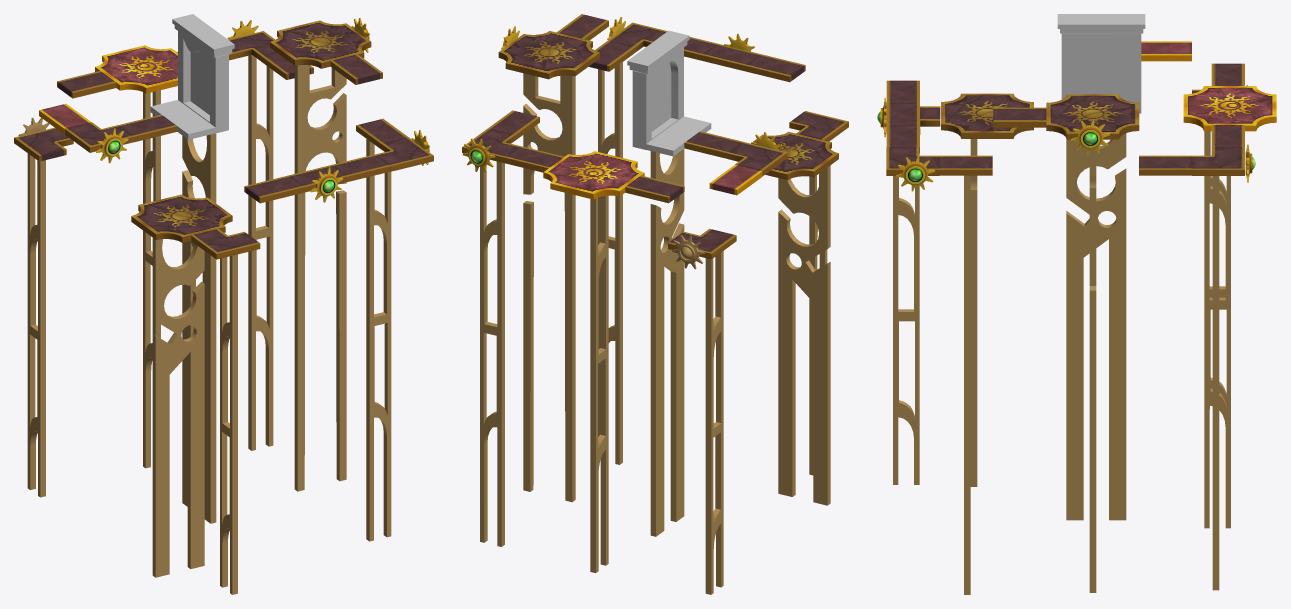
File: Level_2.fbx
3 renders of one model, left to right at view 1: azimuth 30°, elevation 25°; view 2: azimuth 150°, elevation 25°; view 3: azimuth 270°, elevation 25°, orthographic. The views are drawn at different scales.
Parts seen in each view (by area): view 1: Stand_03, Stand_01, Stand_02, pCube40, pCube39, pCube19, pCube30, pCube17, pCube31, pCube46, pCube25, pCube26 (+16 smaller); view 2: Stand_03, Stand_02, Stand_01, pCube31, pCube39, pCube19, pCube30, pCube40, pCube25, pCube26, pCube46, pCube17 (+17 smaller); view 3: Stand_02, pCube19, pCube31, pCube17, Stand_01, pCube26, pCube25, pCube39, pCube46, pCube40, Stand_03, pCube36 (+12 smaller).
Part boxes in pixels (<box>): Stand_03: <box>152,238,204,577</box>; Stand_01: <box>294,65,346,491</box>; Stand_02: <box>182,133,216,523</box>; pCube40: <box>366,138,391,541</box>; pCube39: <box>248,55,273,450</box>; pCube19: <box>150,14,234,139</box>; pCube30: <box>27,153,45,497</box>; pCube17: <box>220,254,237,594</box>; pCube31: <box>143,90,160,468</box>; pCube46: <box>131,194,232,242</box>; pCube25: <box>270,20,371,68</box>; pCube26: <box>95,45,177,93</box>; Stand_03: <box>778,165,830,505</box>; Stand_02: <box>650,149,684,536</box>; Stand_01: <box>523,73,575,502</box>; pCube31: <box>590,195,608,572</box>; pCube39: <box>480,161,504,546</box>; pCube19: <box>627,30,711,156</box>; pCube30: <box>705,251,723,594</box>; pCube40: <box>598,61,622,464</box>; pCube25: <box>498,31,599,79</box>; pCube26: <box>543,151,644,199</box>; pCube46: <box>752,132,838,180</box>; pCube17: <box>809,173,827,475</box>; Stand_02: <box>1066,133,1126,520</box>; pCube19: <box>1057,14,1145,113</box>; pCube31: <box>1204,131,1230,528</box>; pCube17: <box>893,153,919,484</box>; Stand_01: <box>1089,149,1096,592</box>; pCube26: <box>1183,86,1276,131</box>; pCube25: <box>1046,94,1139,139</box>; pCube39: <box>1212,176,1219,590</box>; pCube46: <box>941,93,1033,138</box>; pCube40: <box>964,175,970,594</box>; Stand_03: <box>970,139,977,486</box>; pCube36: <box>1192,147,1244,175</box>.
Size of the model in its own units: 25.69 by 42.58 by 30.05.
